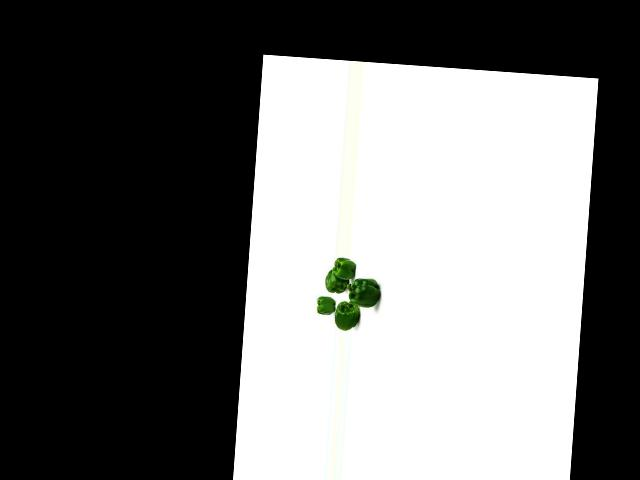bell_pepper: (333, 256, 359, 282)
